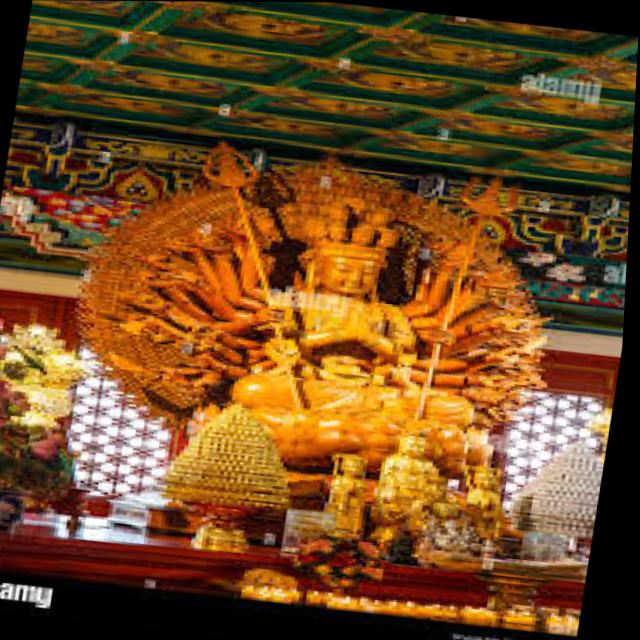Guan Yin: (265, 202, 430, 358)
